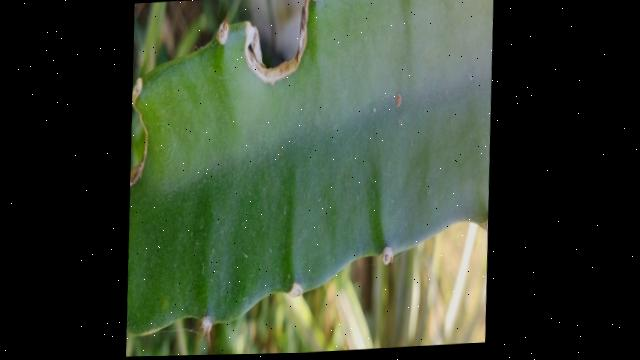stemcanker: (390, 89, 407, 115)
